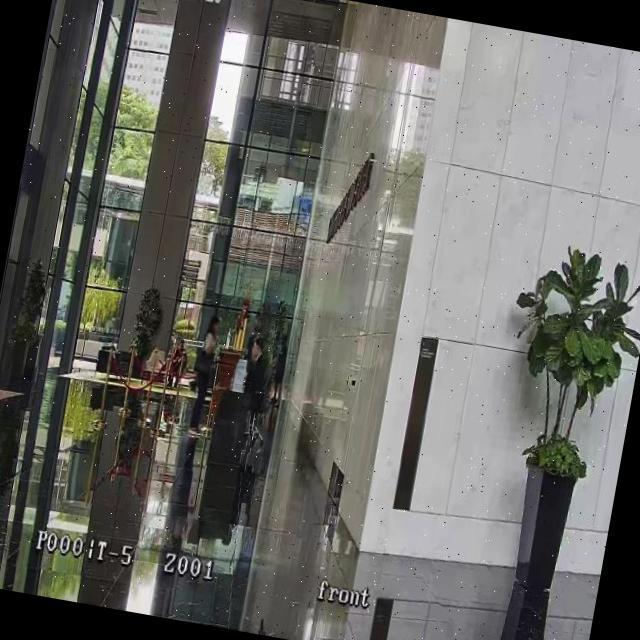person: (183, 311, 223, 436), (241, 336, 273, 410), (266, 332, 294, 410), (164, 338, 192, 392)
